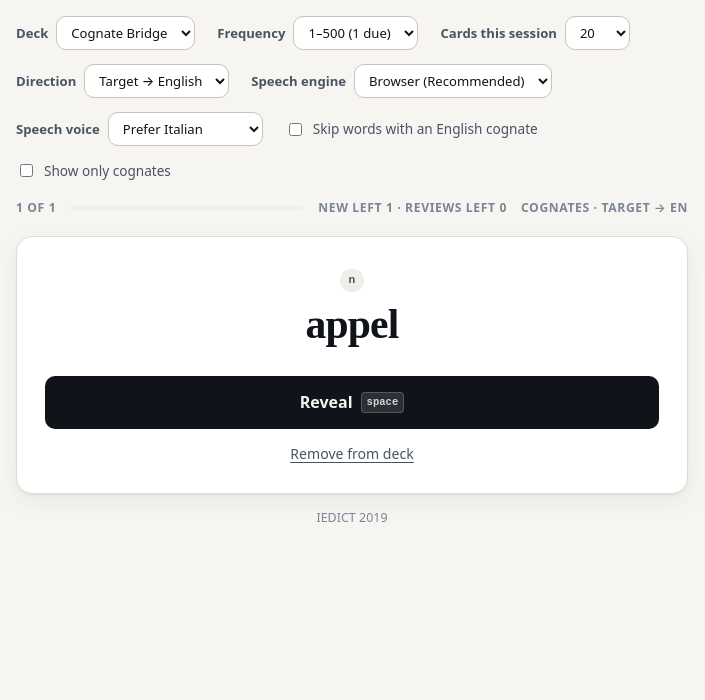
Scenario: StudyPage › says so when a tier-2 card has no cognates for selected languages
Click the button "Reveal space": (352, 403) [45, 376, 659, 429]
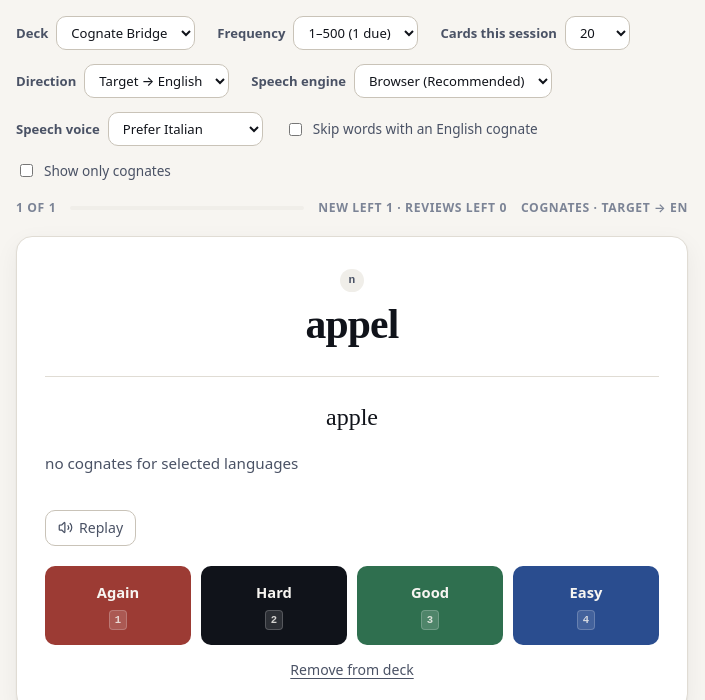
Expected: the text "no cognates for selected languages" is shown, [45, 453, 298, 473]
Expected: the text "apple" is shown, [326, 404, 378, 430]
